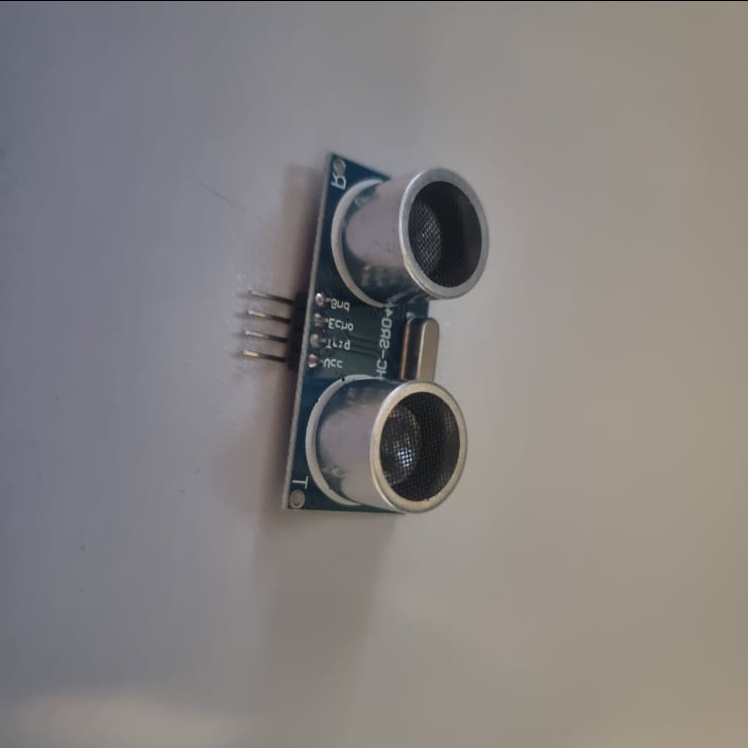SENSOR: (245, 146, 489, 513)
